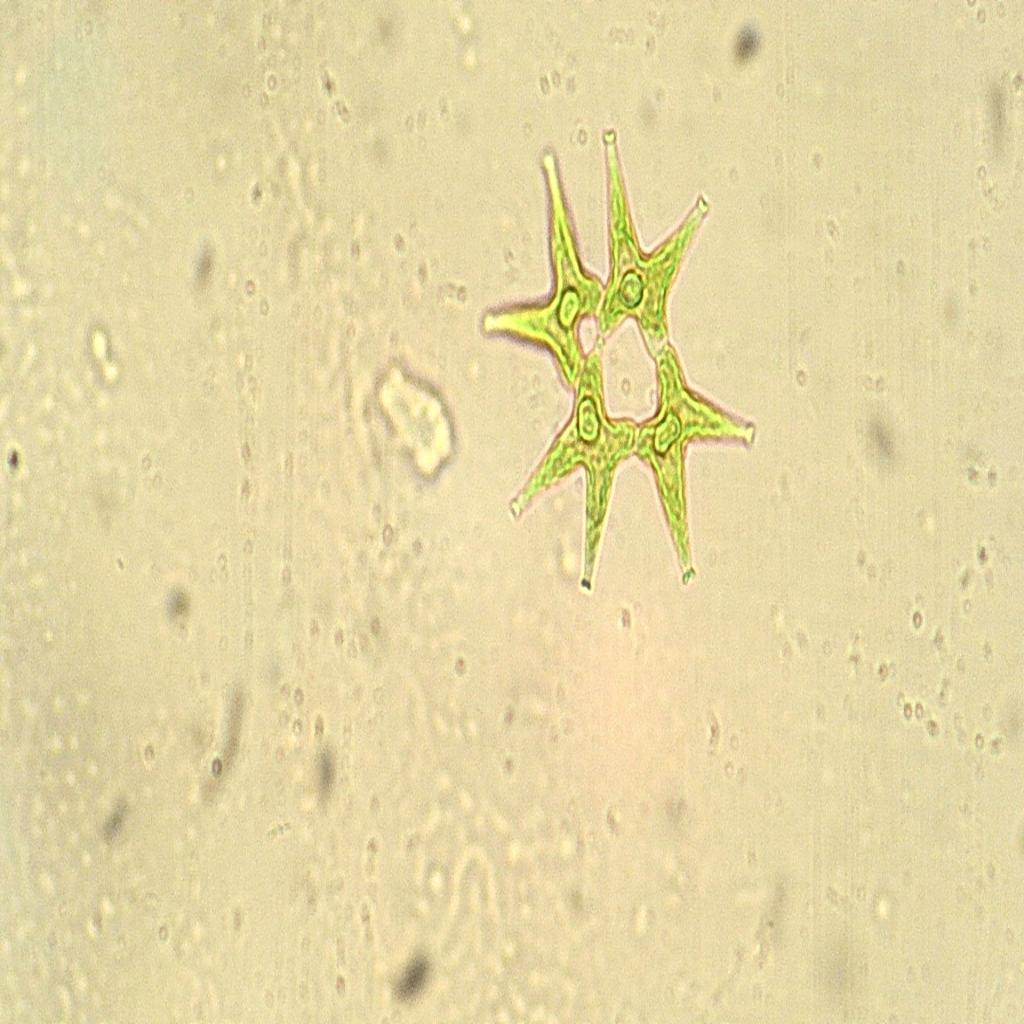Pediastrum_75FO: (477, 115, 762, 617)
